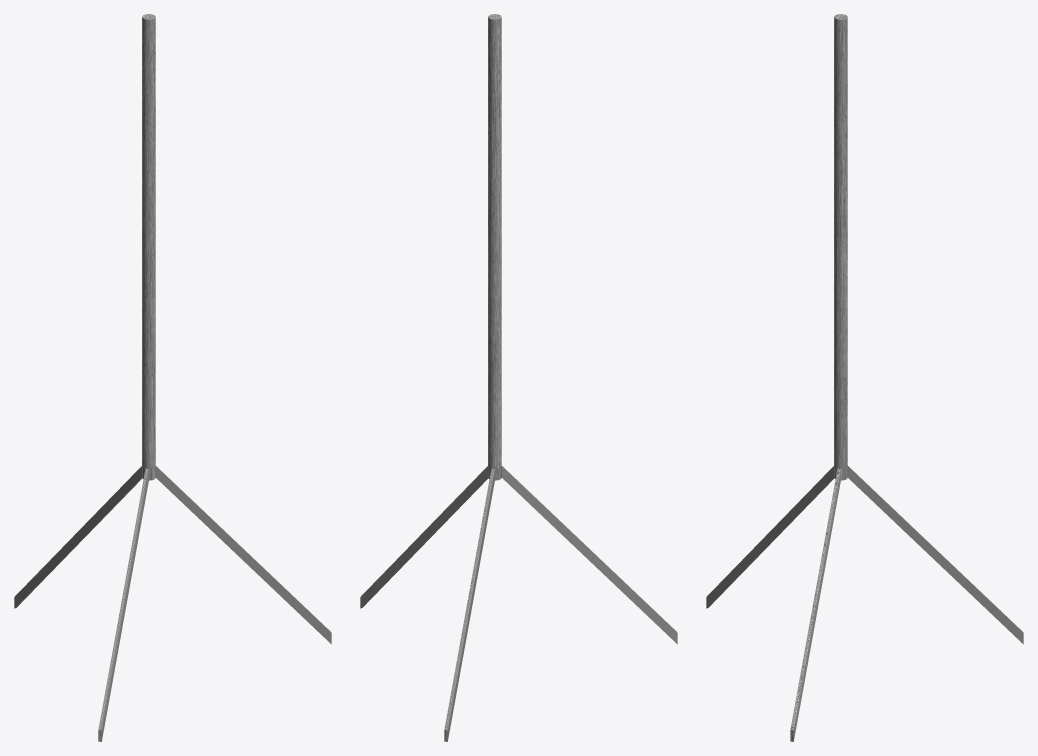
File: Light_Stand_Proto.FBX
3 views of the same model, side by side, from view 1: azimuth 30°, elevation 25°; view 2: azimuth 150°, elevation 25°; view 3: azimuth 270°, elevation 25° (orthographic).
Visible parts, largest first — view 1: Stand; view 2: Stand; view 3: Stand.
Boxes of the visible parts, x1=… form: Stand: x1=14, y1=14, x2=331, y2=741; Stand: x1=360, y1=14, x2=677, y2=741; Stand: x1=706, y1=14, x2=1023, y2=741.
Bounding box in the file's own units: 56.47 × 127 × 56.47.
Materials: 1 (1 with a texture image).
